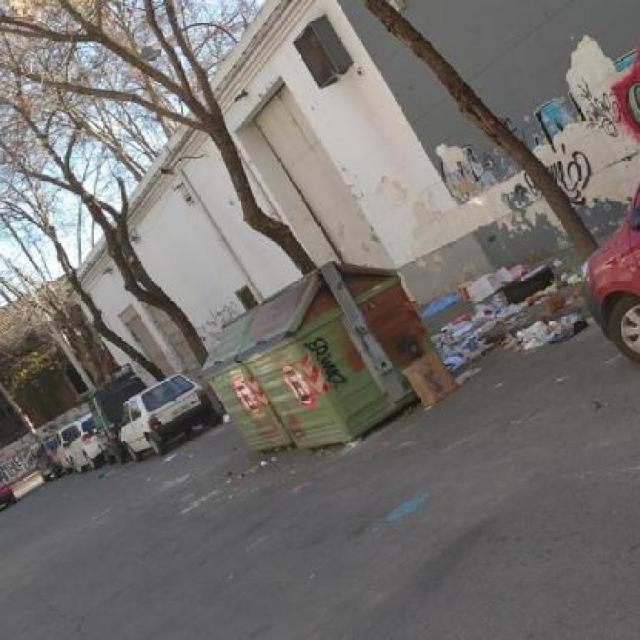garbage: (182, 262, 502, 469), (431, 249, 580, 361)
